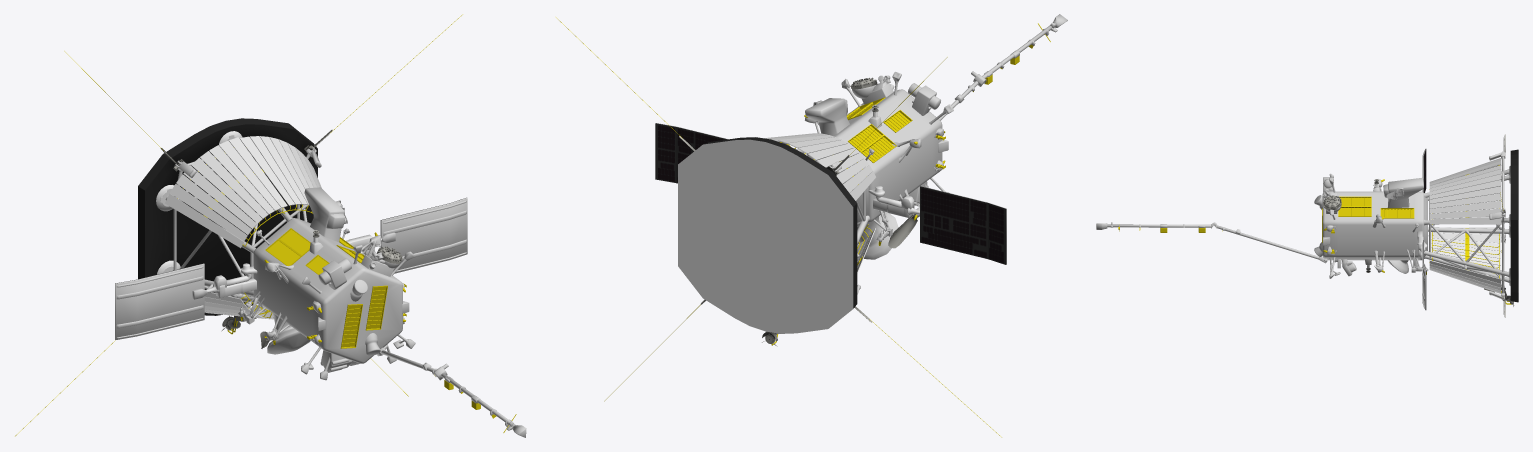
Rendered from uploads_files_3136010_ParkerSolarProbe.fbx.
The picture shows the model from 3 angles, left to right: view 1: azimuth 30°, elevation 25°; view 2: azimuth 150°, elevation 25°; view 3: azimuth 270°, elevation 25°; orthographic projection. The views are drawn at different scales.
Visible parts, largest first — view 1: BUS, Instruments, CoolingSystem, solarWing_LeftBacking, solarWing_RightBacking, vents, solarArray_arms, boom, heatShield_Mounting, HGA; view 2: Instruments, BUS, CoolingSystem, vents, boom, solarArray_arms; view 3: BUS, CoolingSystem, Instruments, vents, boom, CoolingSystem_frame.
Boxes of the visible parts, bbox=[...] form: BUS: bbox=[165, 143, 415, 380]; Instruments: bbox=[115, 118, 466, 348]; CoolingSystem: bbox=[165, 136, 321, 319]; solarWing_LeftBacking: bbox=[115, 263, 204, 339]; solarWing_RightBacking: bbox=[381, 198, 467, 273]; vents: bbox=[265, 228, 387, 348]; solarArray_arms: bbox=[192, 232, 395, 299]; boom: bbox=[377, 345, 526, 437]; heatShield_Mounting: bbox=[156, 131, 242, 294]; HGA: bbox=[267, 331, 310, 354]; Instruments: bbox=[655, 77, 1006, 346]; BUS: bbox=[788, 72, 953, 294]; CoolingSystem: bbox=[764, 133, 875, 273]; vents: bbox=[846, 97, 912, 162]; boom: bbox=[939, 14, 1067, 120]; solarArray_arms: bbox=[868, 186, 919, 217]; BUS: bbox=[1314, 151, 1509, 300]; CoolingSystem: bbox=[1429, 158, 1501, 293]; Instruments: bbox=[1323, 134, 1518, 317]; vents: bbox=[1322, 196, 1414, 242]; boom: bbox=[1096, 222, 1327, 263]; CoolingSystem_frame: bbox=[1429, 165, 1511, 304].
Bounding box in the file's own units: 575 × 526 × 661.
